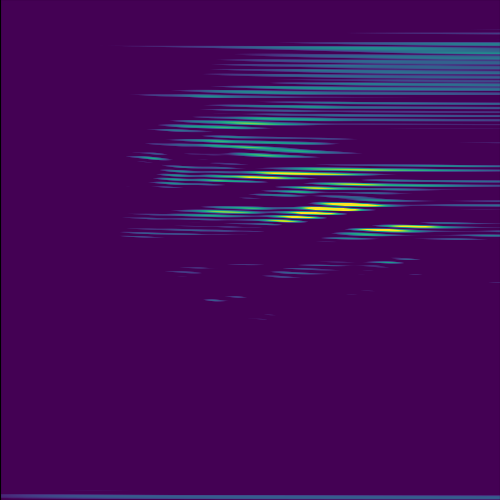semblance: (226, 162, 388, 188), (260, 197, 396, 227), (335, 218, 450, 247)
